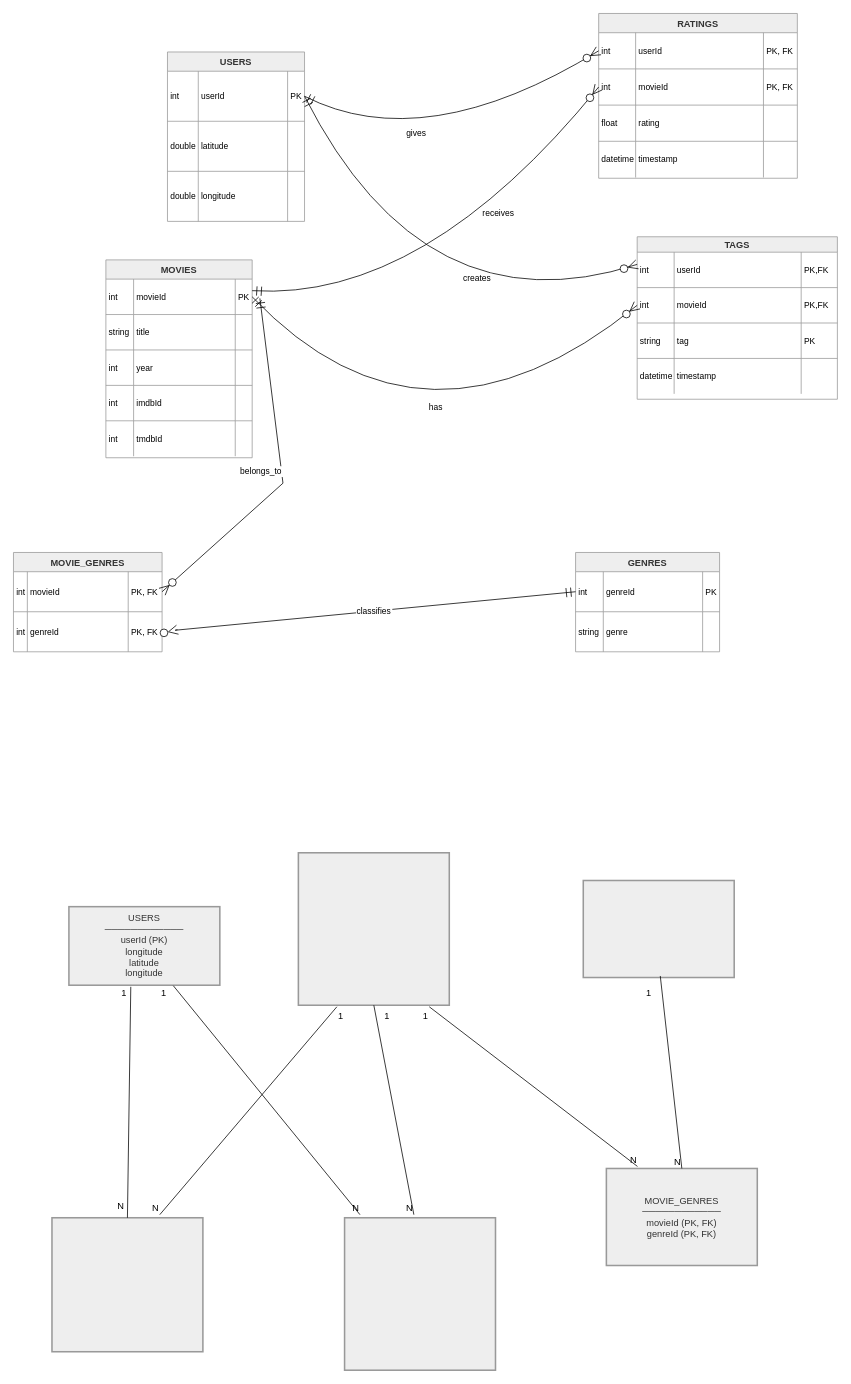
Some shapes in this 851 by 1384 pixel diagram are drawn without their labels. The shapes that lost their labels are listed below. From the top down, each one's centre as x and y in pixels, then its label:
point 373,929: MOVIES ──────────── movieId (PK) title year imdbId tmdbId
point 658,928: GENRES ──────────── genreId (PK) genre
point 127,1284: RATINGS ──────────── userId (PK, FK) movieId (PK, FK) rating timestamp
point 419,1294: TAGS ──────────── userId (PK,FK) movieId (PK,FK) tag(PK) timestamp
